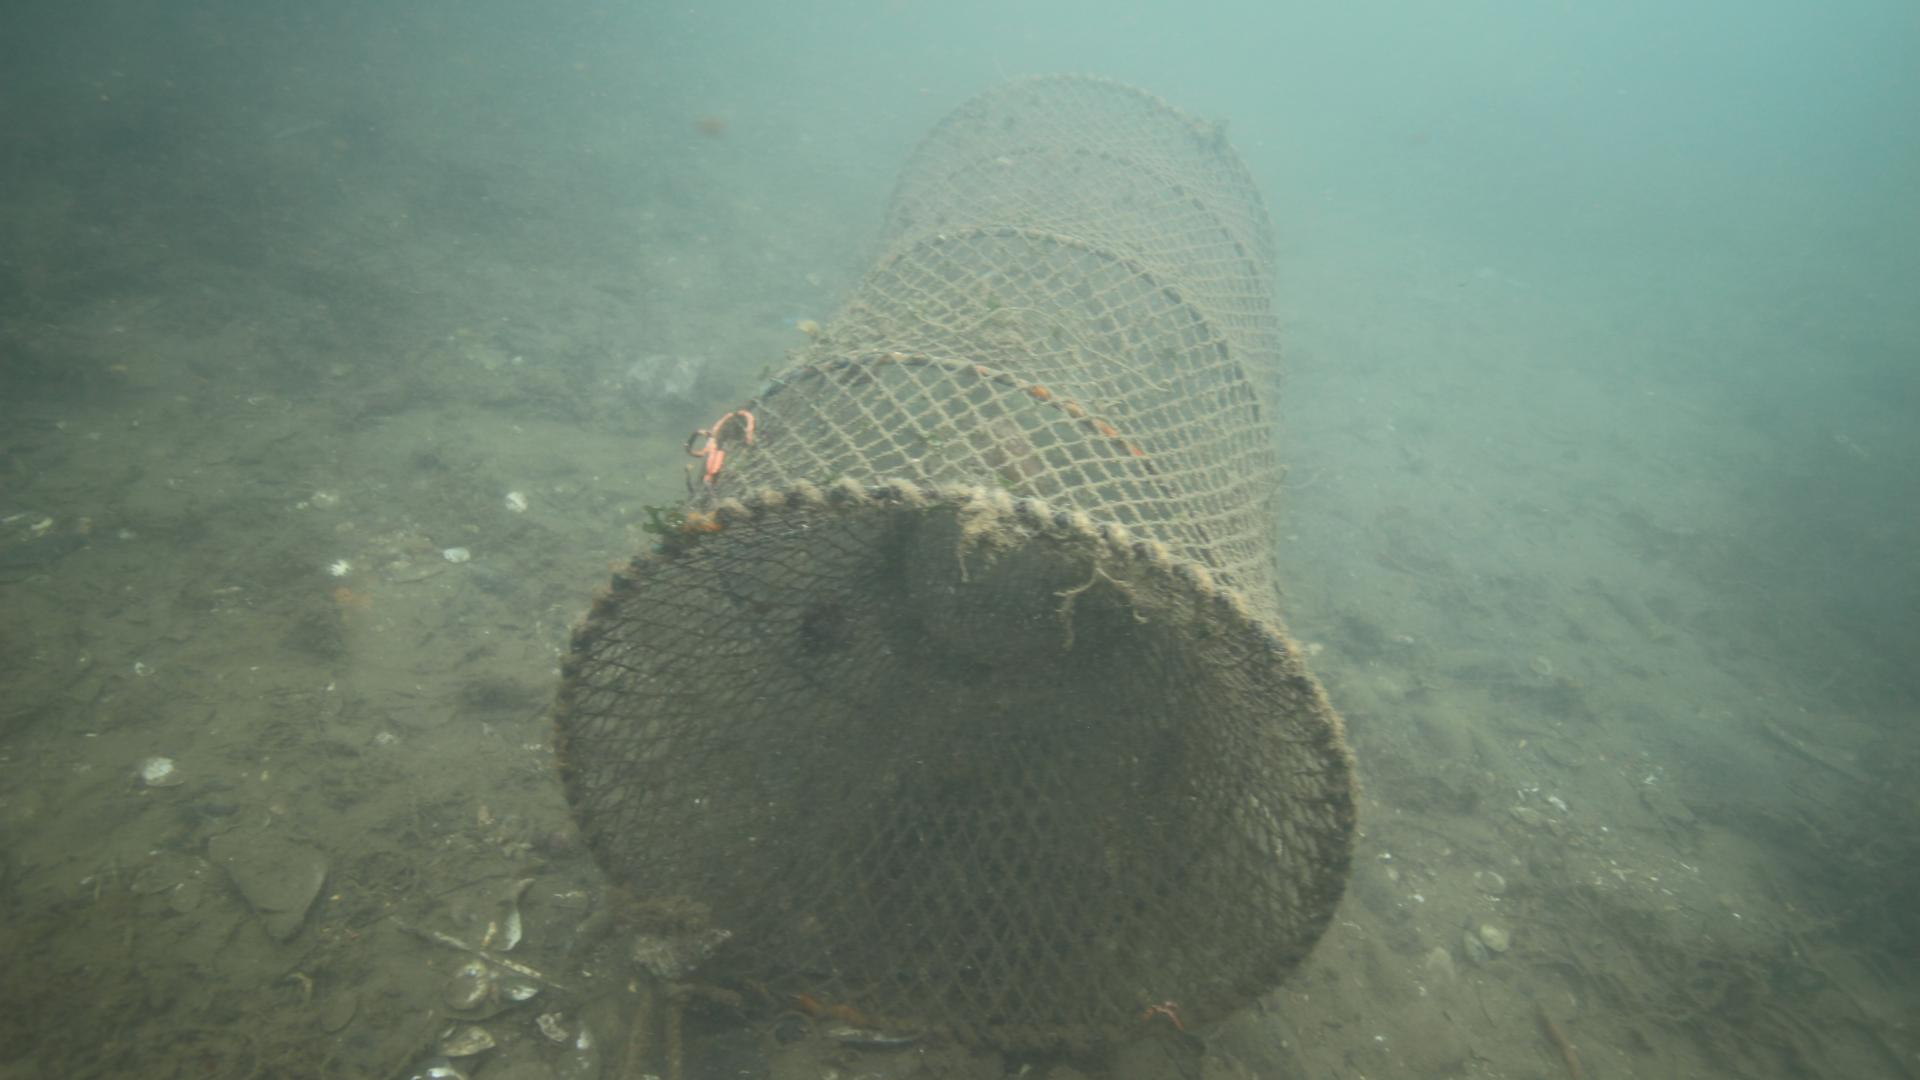spring fish trap: (554, 71, 1357, 1050)
